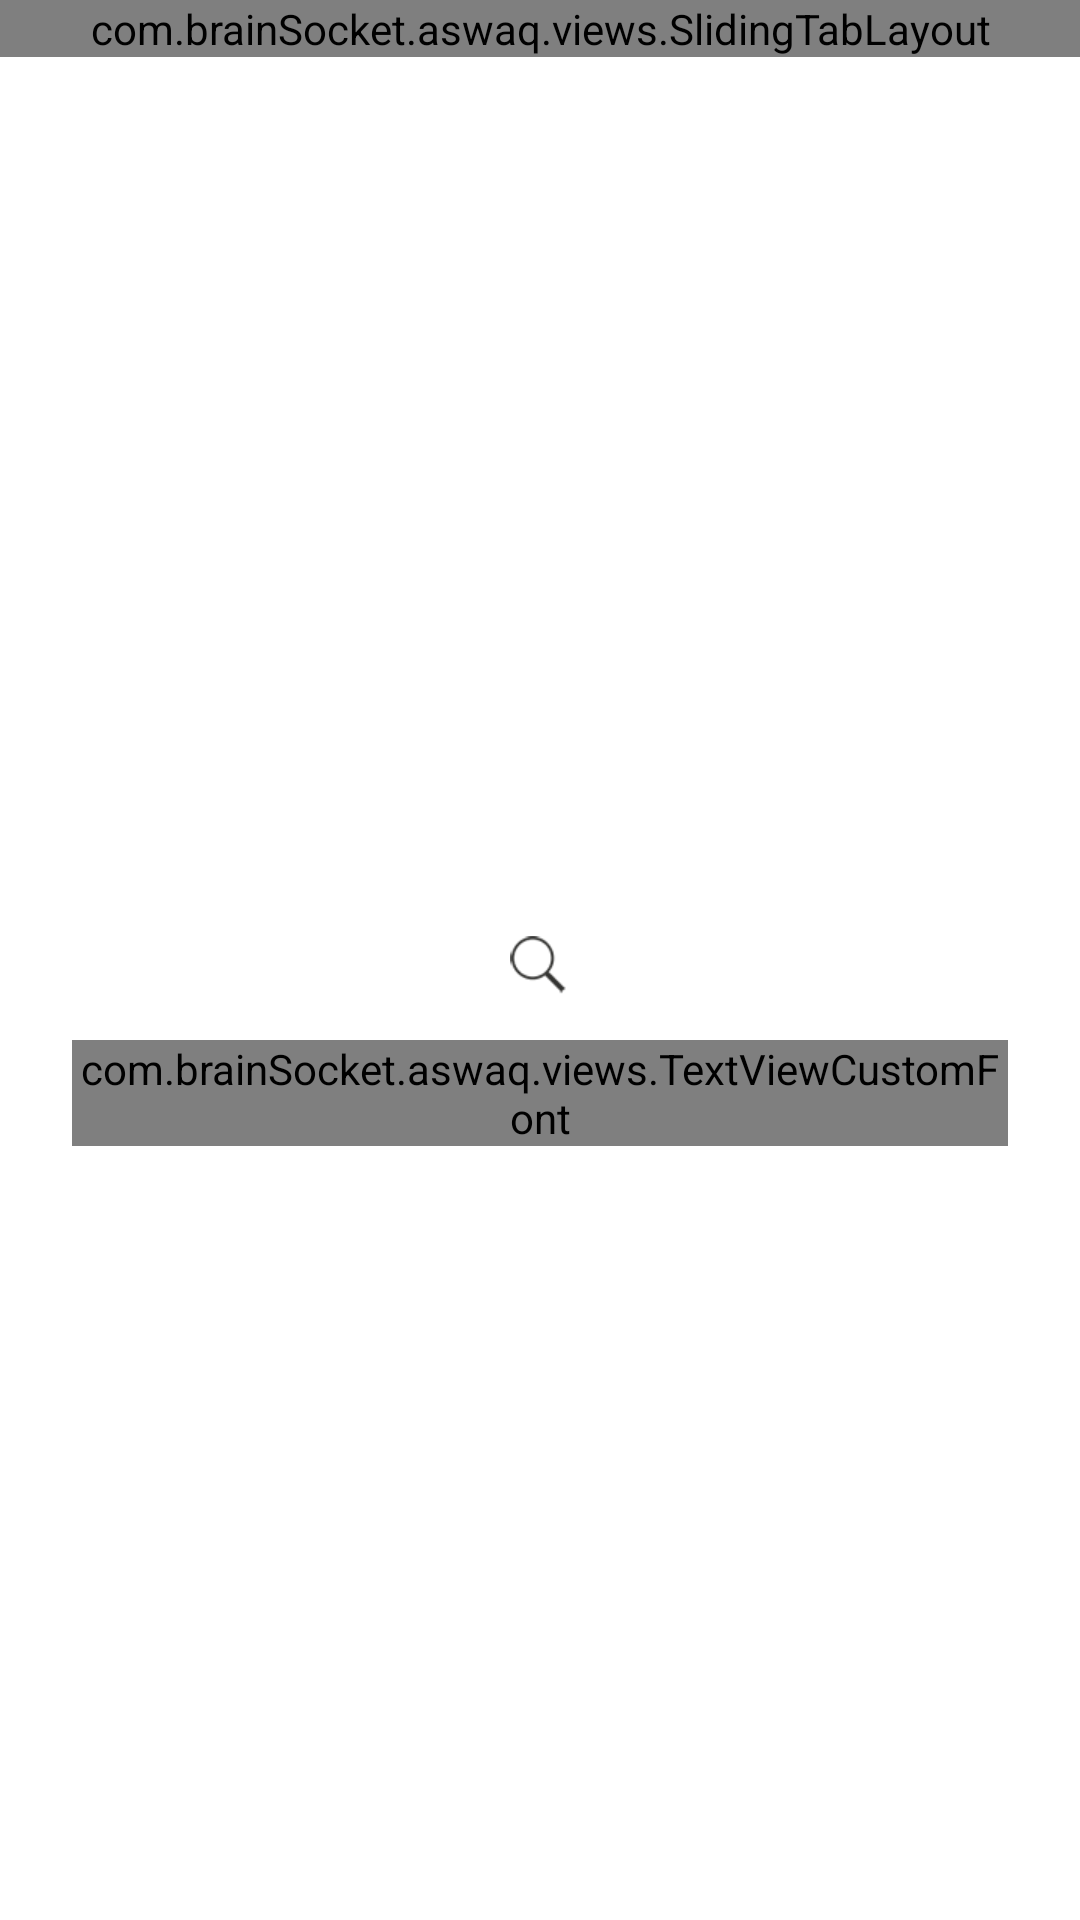

Screen size 1080*1920. Icon name, then its center in pixels as (x,y):
search: (538,964)
